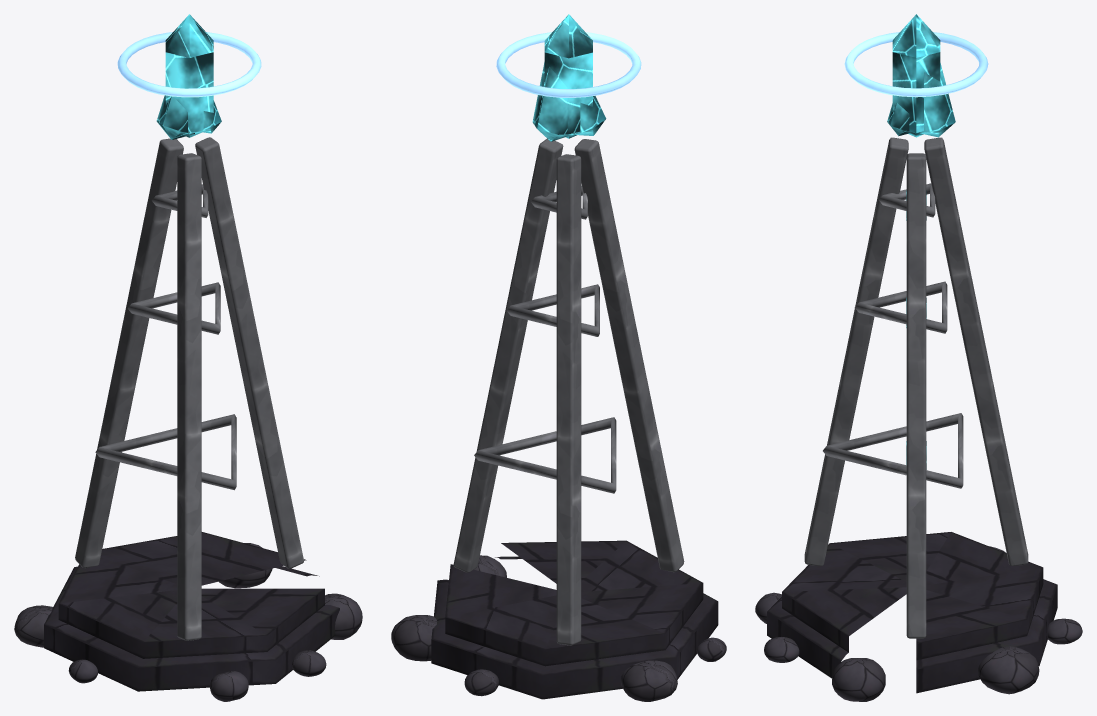
Rendered from pylon.glb.
The picture shows the model from 3 angles, left to right: view 1: azimuth 30°, elevation 25°; view 2: azimuth 150°, elevation 25°; view 3: azimuth 270°, elevation 25°; orthographic projection.
Parts seen in each view (by area): view 1: Base, Turret; view 2: Base, Turret; view 3: Base, Turret.
Part boxes in pixels (left/top/right/bottom): Base: left=14, top=137, right=362, bottom=701; Turret: left=117, top=14, right=261, bottom=139; Base: left=391, top=138, right=726, bottom=701; Turret: left=496, top=14, right=641, bottom=141; Base: left=755, top=137, right=1082, bottom=701; Turret: left=844, top=14, right=988, bottom=137.
Bounding box in the file's own units: 0.8146 × 1.75 × 0.8291.
Materials: 5 (5 with a texture image).
